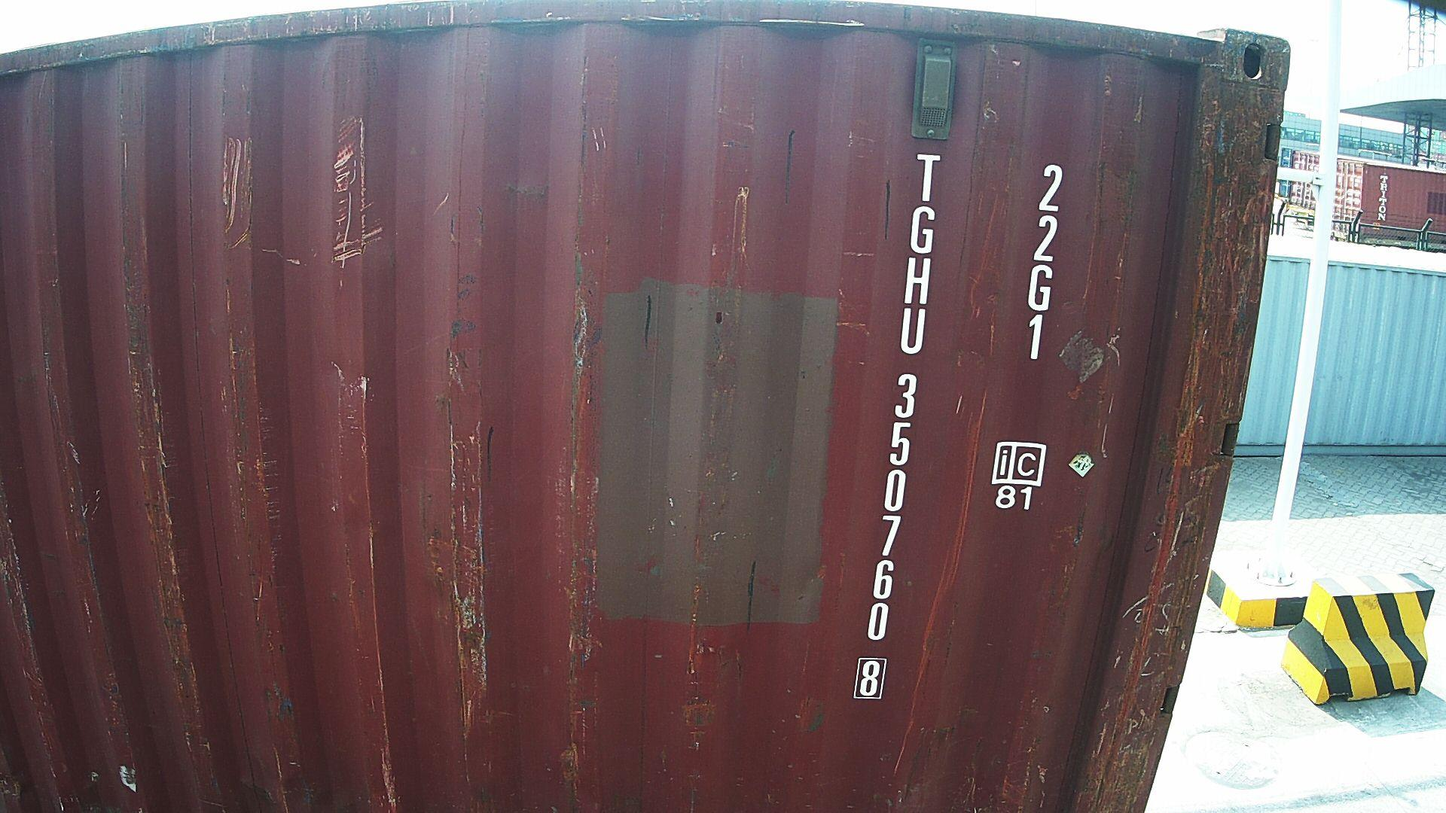container-numbers: (848, 145, 944, 709), (1015, 160, 1066, 367)
